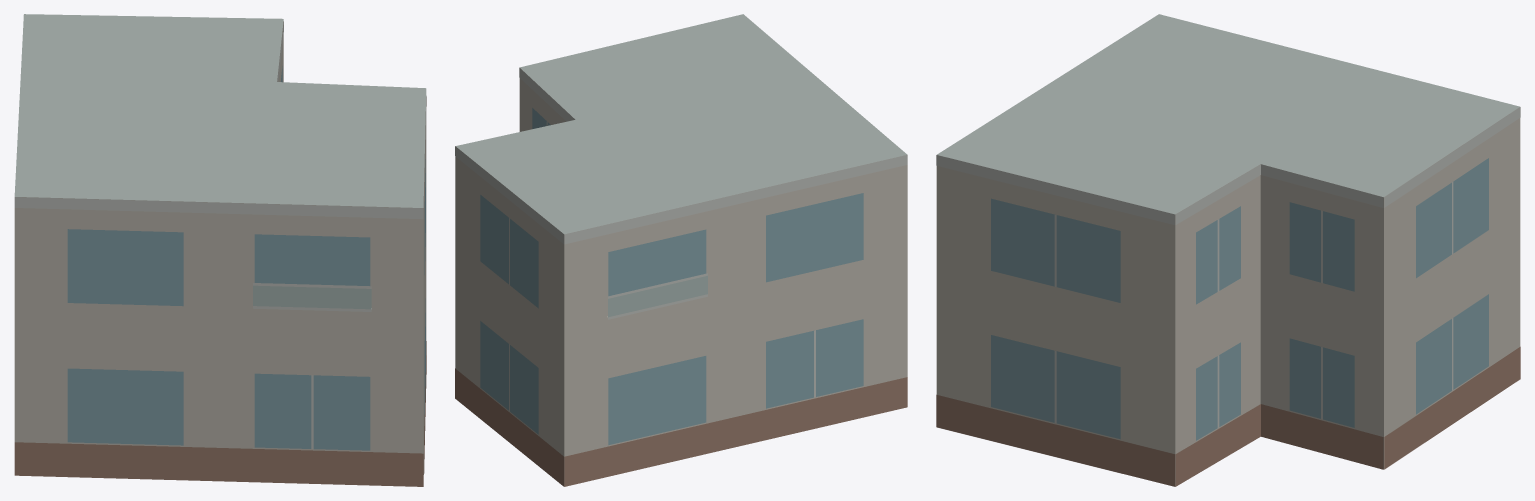
The model's file is survey-upis-32679110.glb.
3 renders of one model, left to right at view 1: azimuth 30°, elevation 25°; view 2: azimuth 150°, elevation 25°; view 3: azimuth 270°, elevation 25°, orthographic. The views are drawn at different scales.
Visible parts, largest first — view 1: survey-upis-32679110.tmp; view 2: survey-upis-32679110.tmp; view 3: survey-upis-32679110.tmp.
Boxes of the visible parts, x1,y1,x2,y2 form: survey-upis-32679110.tmp: (14,14,426,486); survey-upis-32679110.tmp: (455,14,907,486); survey-upis-32679110.tmp: (936,14,1520,486).
Bounding box in the file's own units: 9.63 × 6.1 × 11.86.
